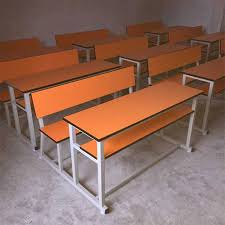Bench: (30, 90, 192, 162), (19, 56, 125, 150)
